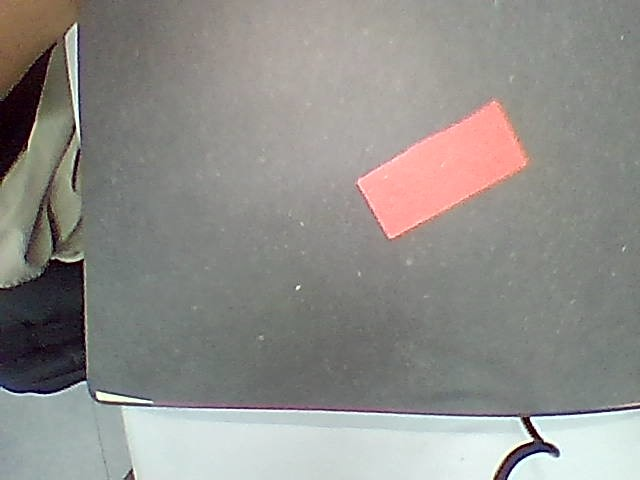card: (358, 101, 527, 238)
